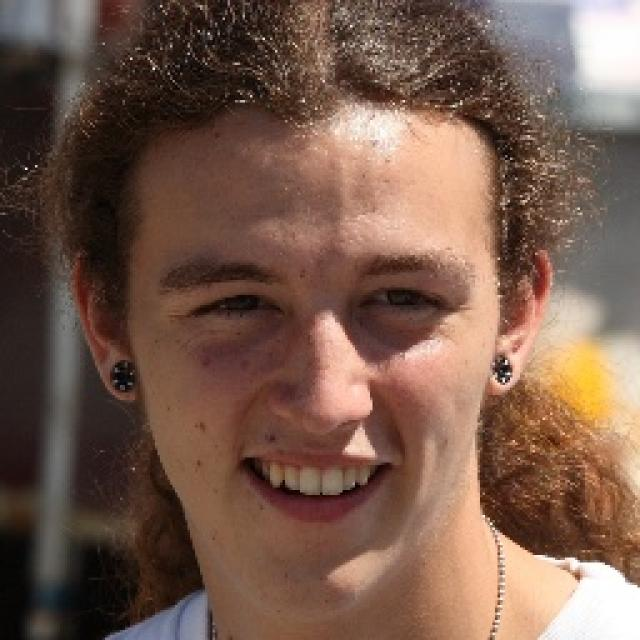earlobe: (68, 247, 140, 404), (484, 247, 552, 400)
